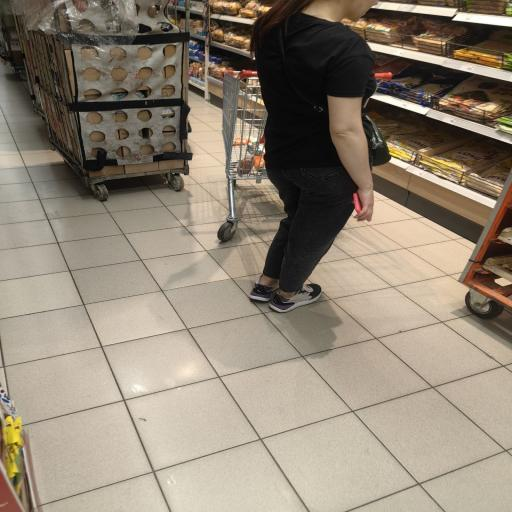shopping_cart: (217, 70, 269, 242)
